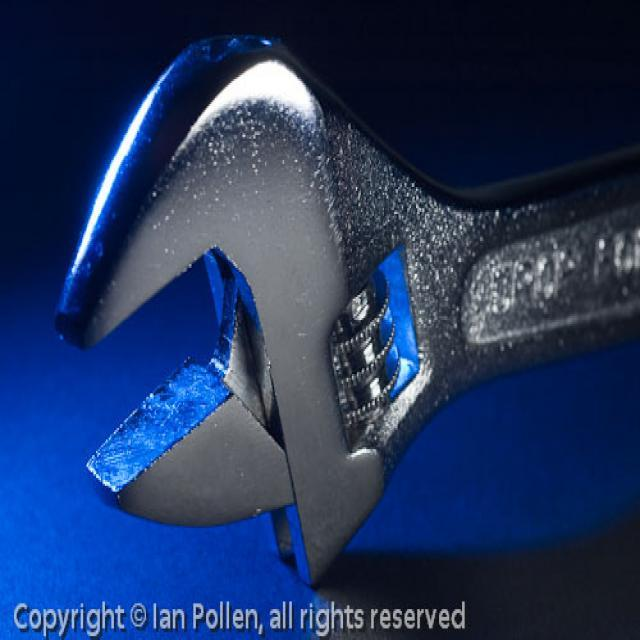wrench: (46, 15, 640, 589)
